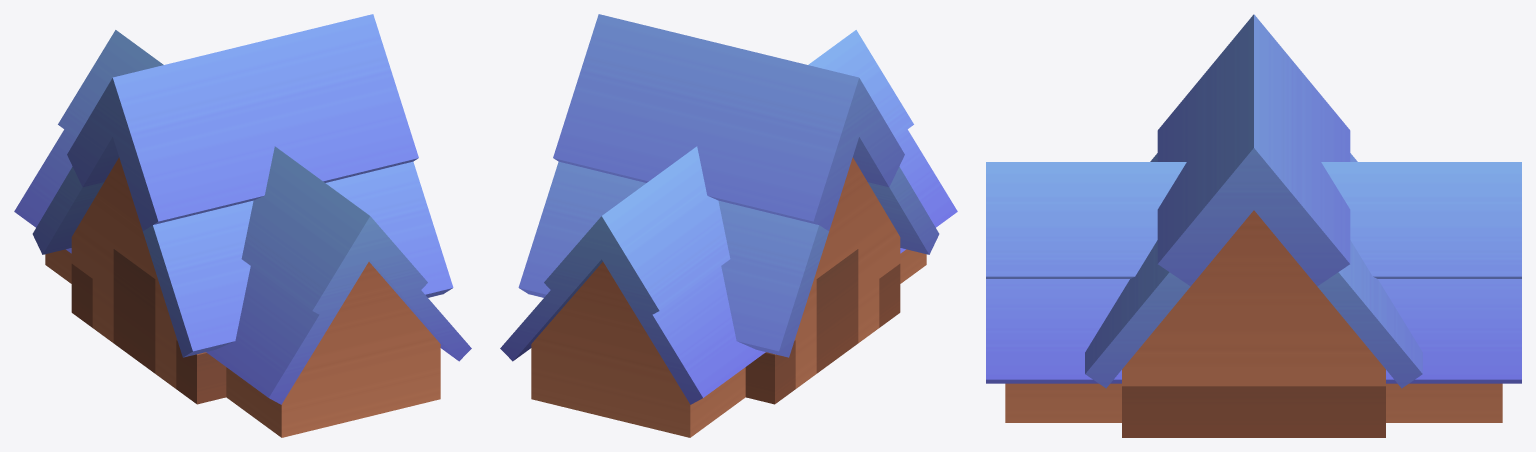
Rendered from mansion.fbx.
3 views of the same model, side by side, from view 1: azimuth 30°, elevation 25°; view 2: azimuth 150°, elevation 25°; view 3: azimuth 270°, elevation 25° (orthographic). The views are drawn at different scales.
Parts seen in each view (by area): view 1: unit_mansion; view 2: unit_mansion; view 3: unit_mansion.
Boxes of the visible parts, x1=… form: unit_mansion: x1=14, y1=14, x2=471, y2=437; unit_mansion: x1=500, y1=14, x2=957, y2=437; unit_mansion: x1=986, y1=14, x2=1521, y2=437.
Bounding box in the file's own units: 36 × 37.81 × 60.94.
